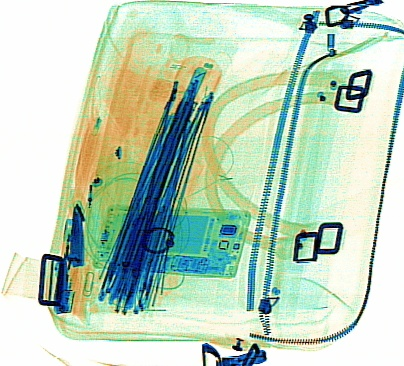lighter: (55, 216, 77, 281)
